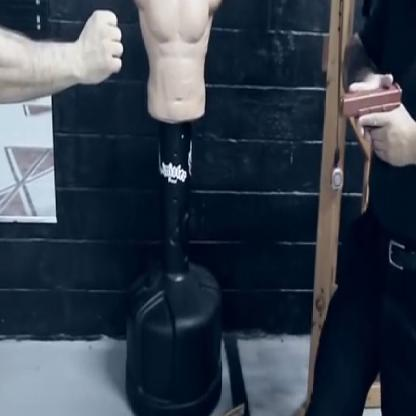gun: (337, 79, 402, 134)
